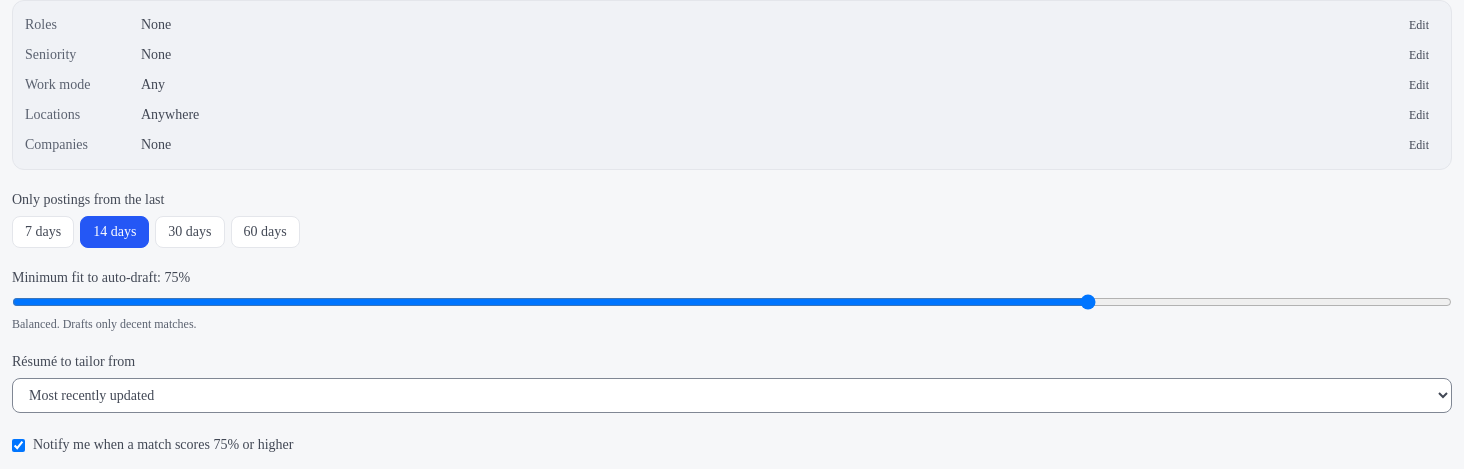
it: StepReview › updates the fit value and hint from the slider
The image size is (1464, 469).
expect the text "Balanced. Drafts only decent matches." is shown: met, box [12,317,197,331]
// fireEvent because user-event cannot drag a range input
Set the slider labelled "Minimum fit to auto-draft: 75%" to "90" at (1302, 302), box [12,294,1452,310]
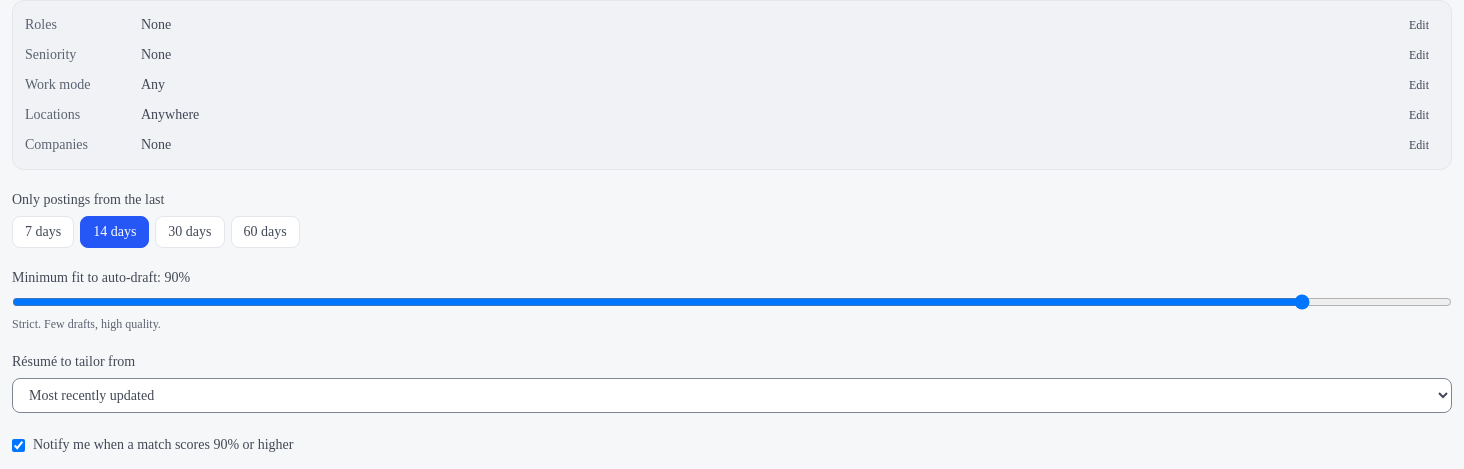
expect the text "Strict. Few drafts, high quality." is shown: met, box [12,317,161,331]
